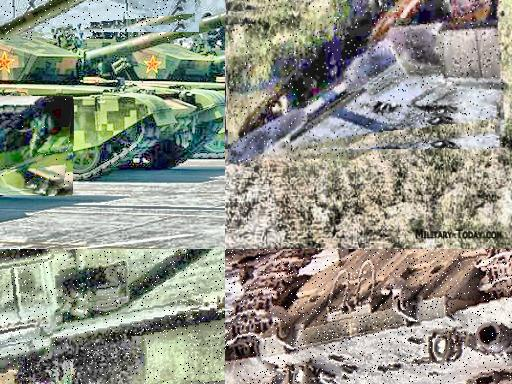tanks: (230, 1, 503, 163), (226, 250, 512, 384), (1, 12, 226, 182), (1, 250, 226, 384), (1, 97, 74, 192), (1, 1, 89, 40)
